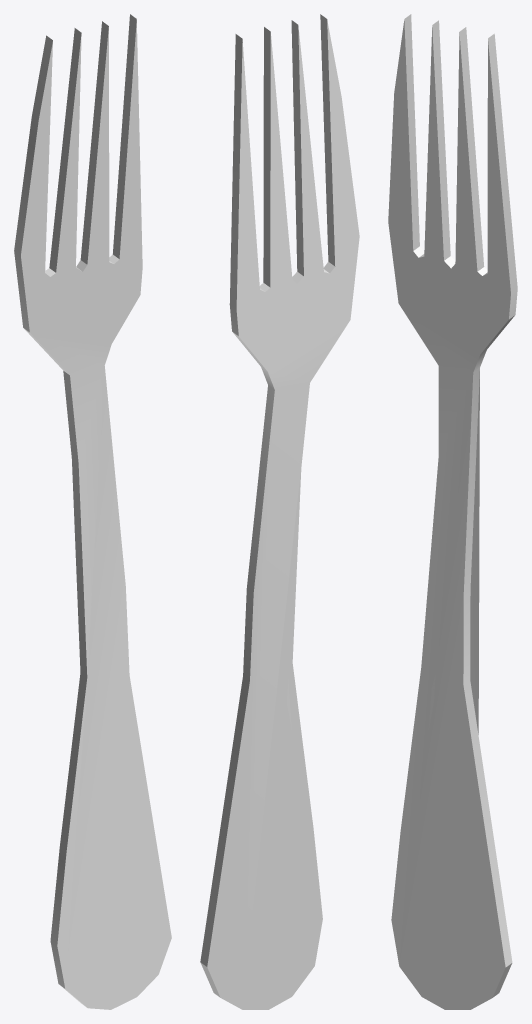
File: Garpu.fbx
3 renders of one model, left to right at view 1: azimuth 30°, elevation 25°; view 2: azimuth 210°, elevation 25°; view 3: azimuth 330°, elevation 25°, orthographic.
Parts seen in each view (by area): view 1: Garpu; view 2: Garpu; view 3: Garpu.
Boxes of the visible parts, x1,y1,x2,y2 form: Garpu: [14, 14, 171, 1009]; Garpu: [200, 14, 359, 1009]; Garpu: [388, 14, 517, 1009].
Bounding box in the file's own units: 7.05 × 48.95 × 2.19.
